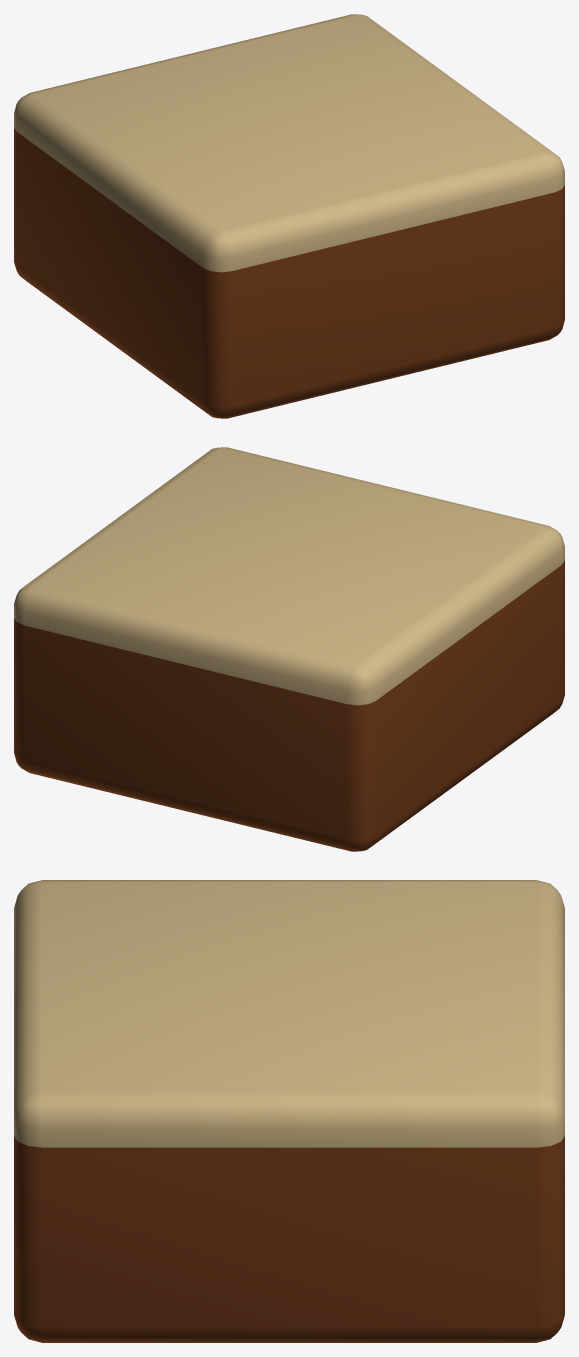
Rendered from Tiles_Brown.fbx.
3 renders of one model, top to bottom at view 1: azimuth 30°, elevation 25°; view 2: azimuth 150°, elevation 25°; view 3: azimuth 270°, elevation 25°, orthographic. The views are drawn at different scales.
Parts seen in each view (by area): view 1: Cube; view 2: Cube; view 3: Cube.
Boxes of the visible parts, x1,y1,x2,y2 form: Cube: (14,14,564,418); Cube: (14,447,564,851); Cube: (14,880,564,1342).
Bounding box in the file's own units: 2 × 0.9953 × 2.
